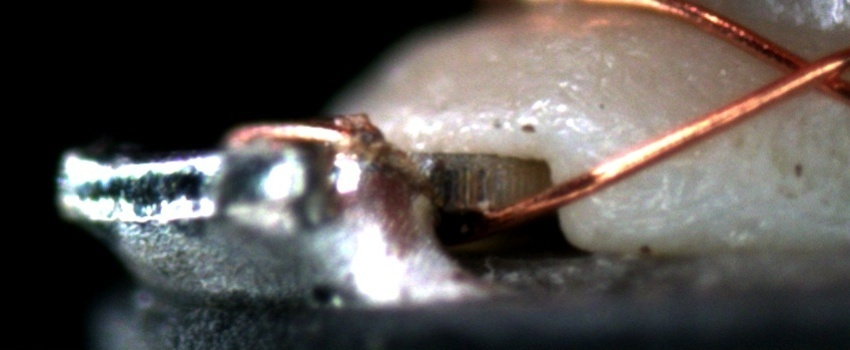CL: (762, 38, 846, 102)
DL: (593, 131, 715, 179)
TE: (216, 112, 385, 152)
